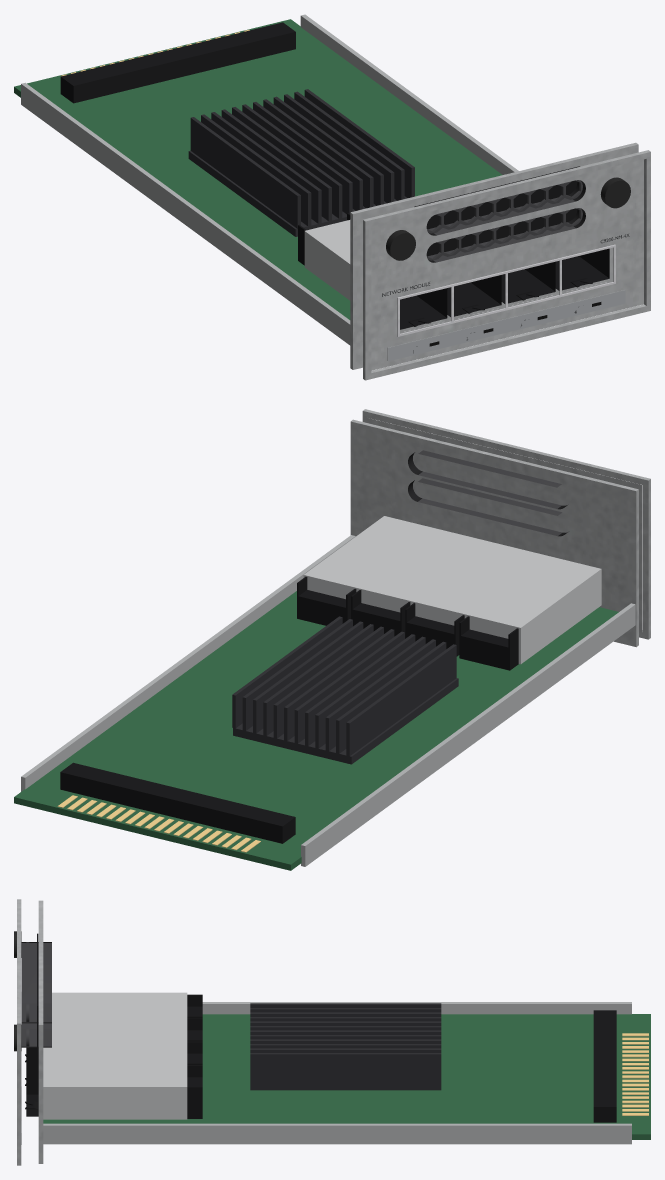
The picture shows the model from 3 angles, top to bottom: view 1: azimuth 30°, elevation 25°; view 2: azimuth 150°, elevation 25°; view 3: azimuth 270°, elevation 25°; orthographic projection. The views are drawn at different scales.
Visible parts, largest first — view 1: Body; view 2: Body; view 3: Body.
Part boxes in pixels (bbox=[...]): Body: bbox=[14, 14, 650, 380]; Body: bbox=[14, 409, 650, 870]; Body: bbox=[14, 899, 650, 1165].
Bounding box in the file's own units: 0.0772 × 0.041 × 0.167.
Materials: 14 (2 with a texture image).
